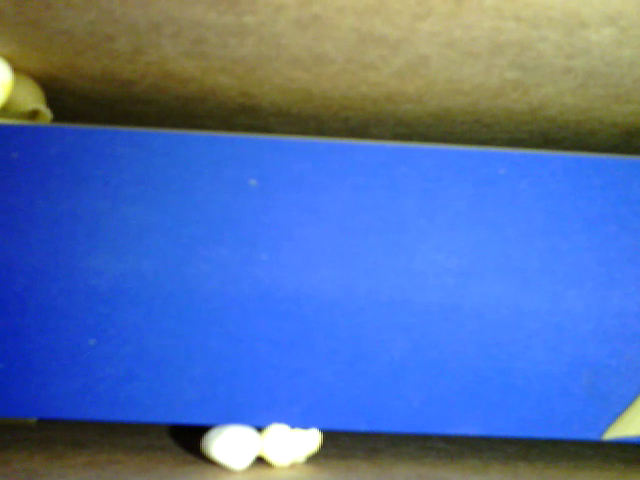shell: (1, 68, 57, 126)
